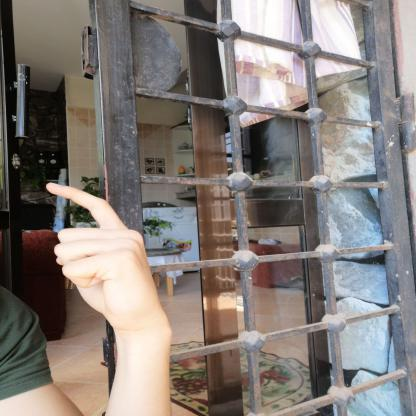RAA: (28, 176, 172, 335)
